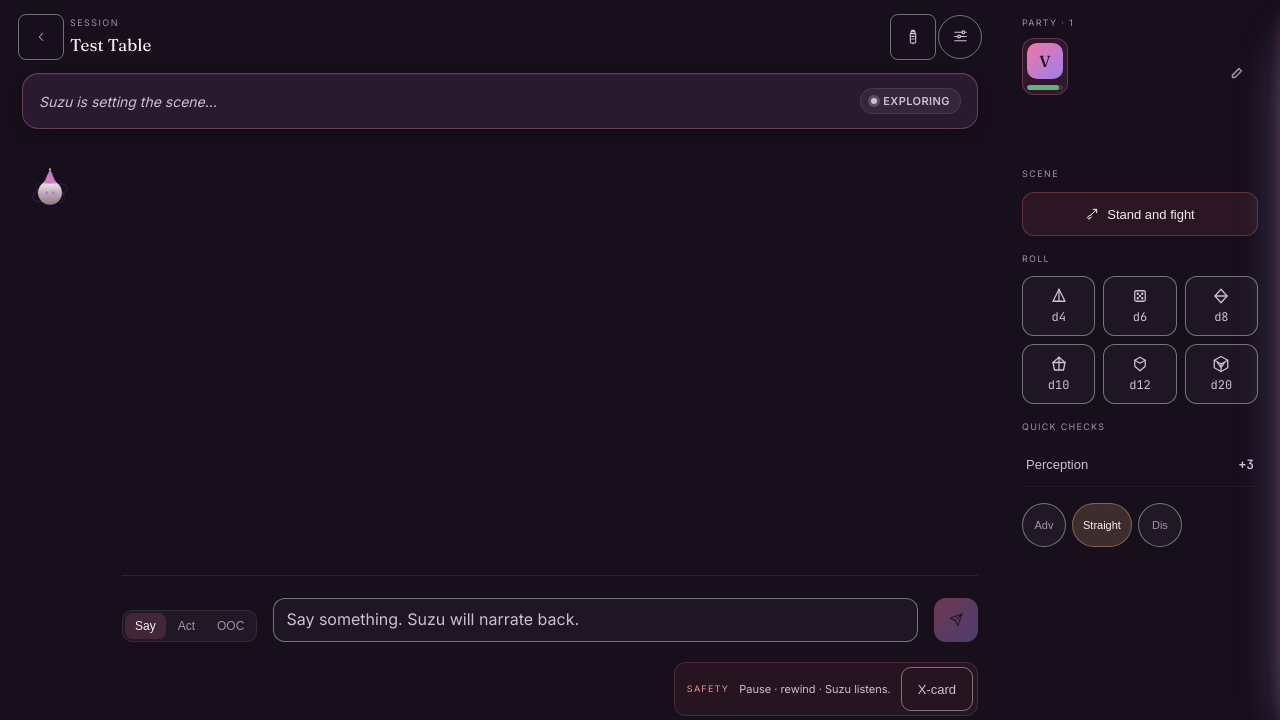
Test: Pass-3 synthetic beat #5 (combat-start / beginEncounter) — flag ON, §8 items 2/4/6 › per-beat dedup: the durable player_action + narration for the combat-start beat each reconcile exactly once
Expected: the text "Test Table" is shown, x1=70 y1=32 x2=151 y2=57
Click the button "Stand and fight" at [1140, 214], box x1=1022 y1=192 x2=1258 y2=236
Wait 4000 ms
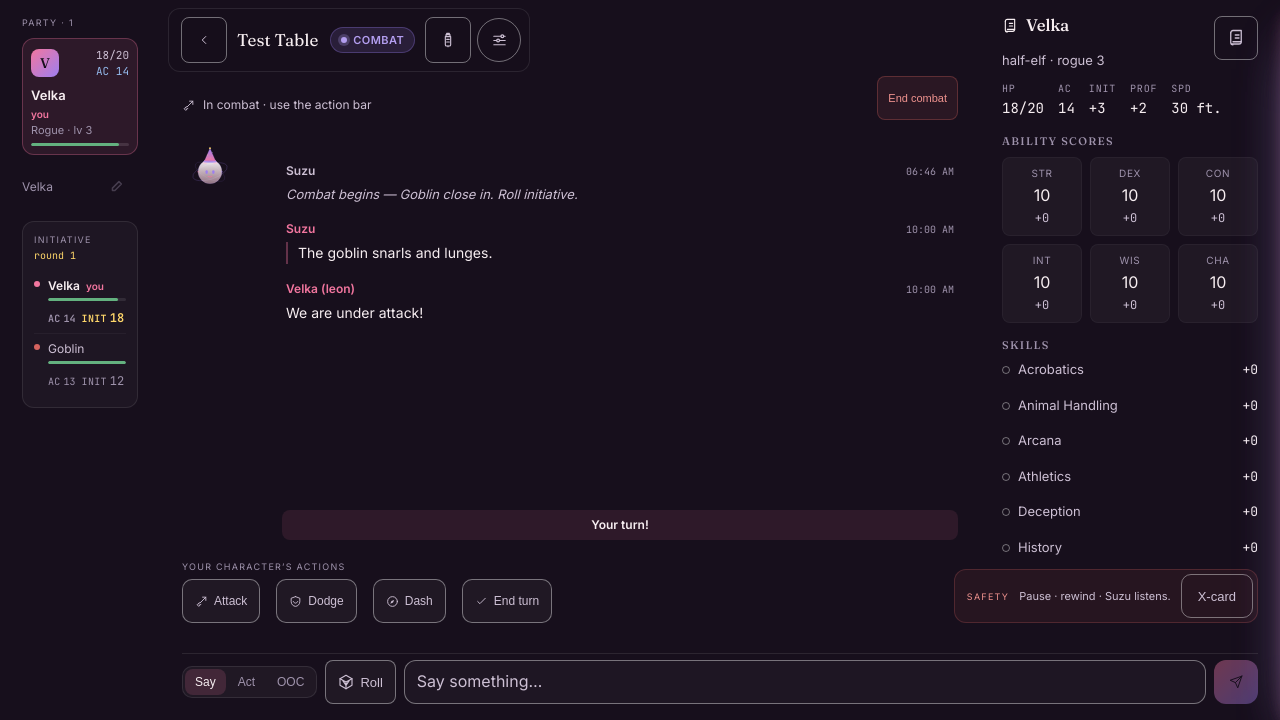
Expected: the text "We are under attack!" is shown once, x1=286 y1=304 x2=423 y2=321
Expected: the text "The goblin snarls and lunges." is shown once, x1=286 y1=242 x2=954 y2=264
